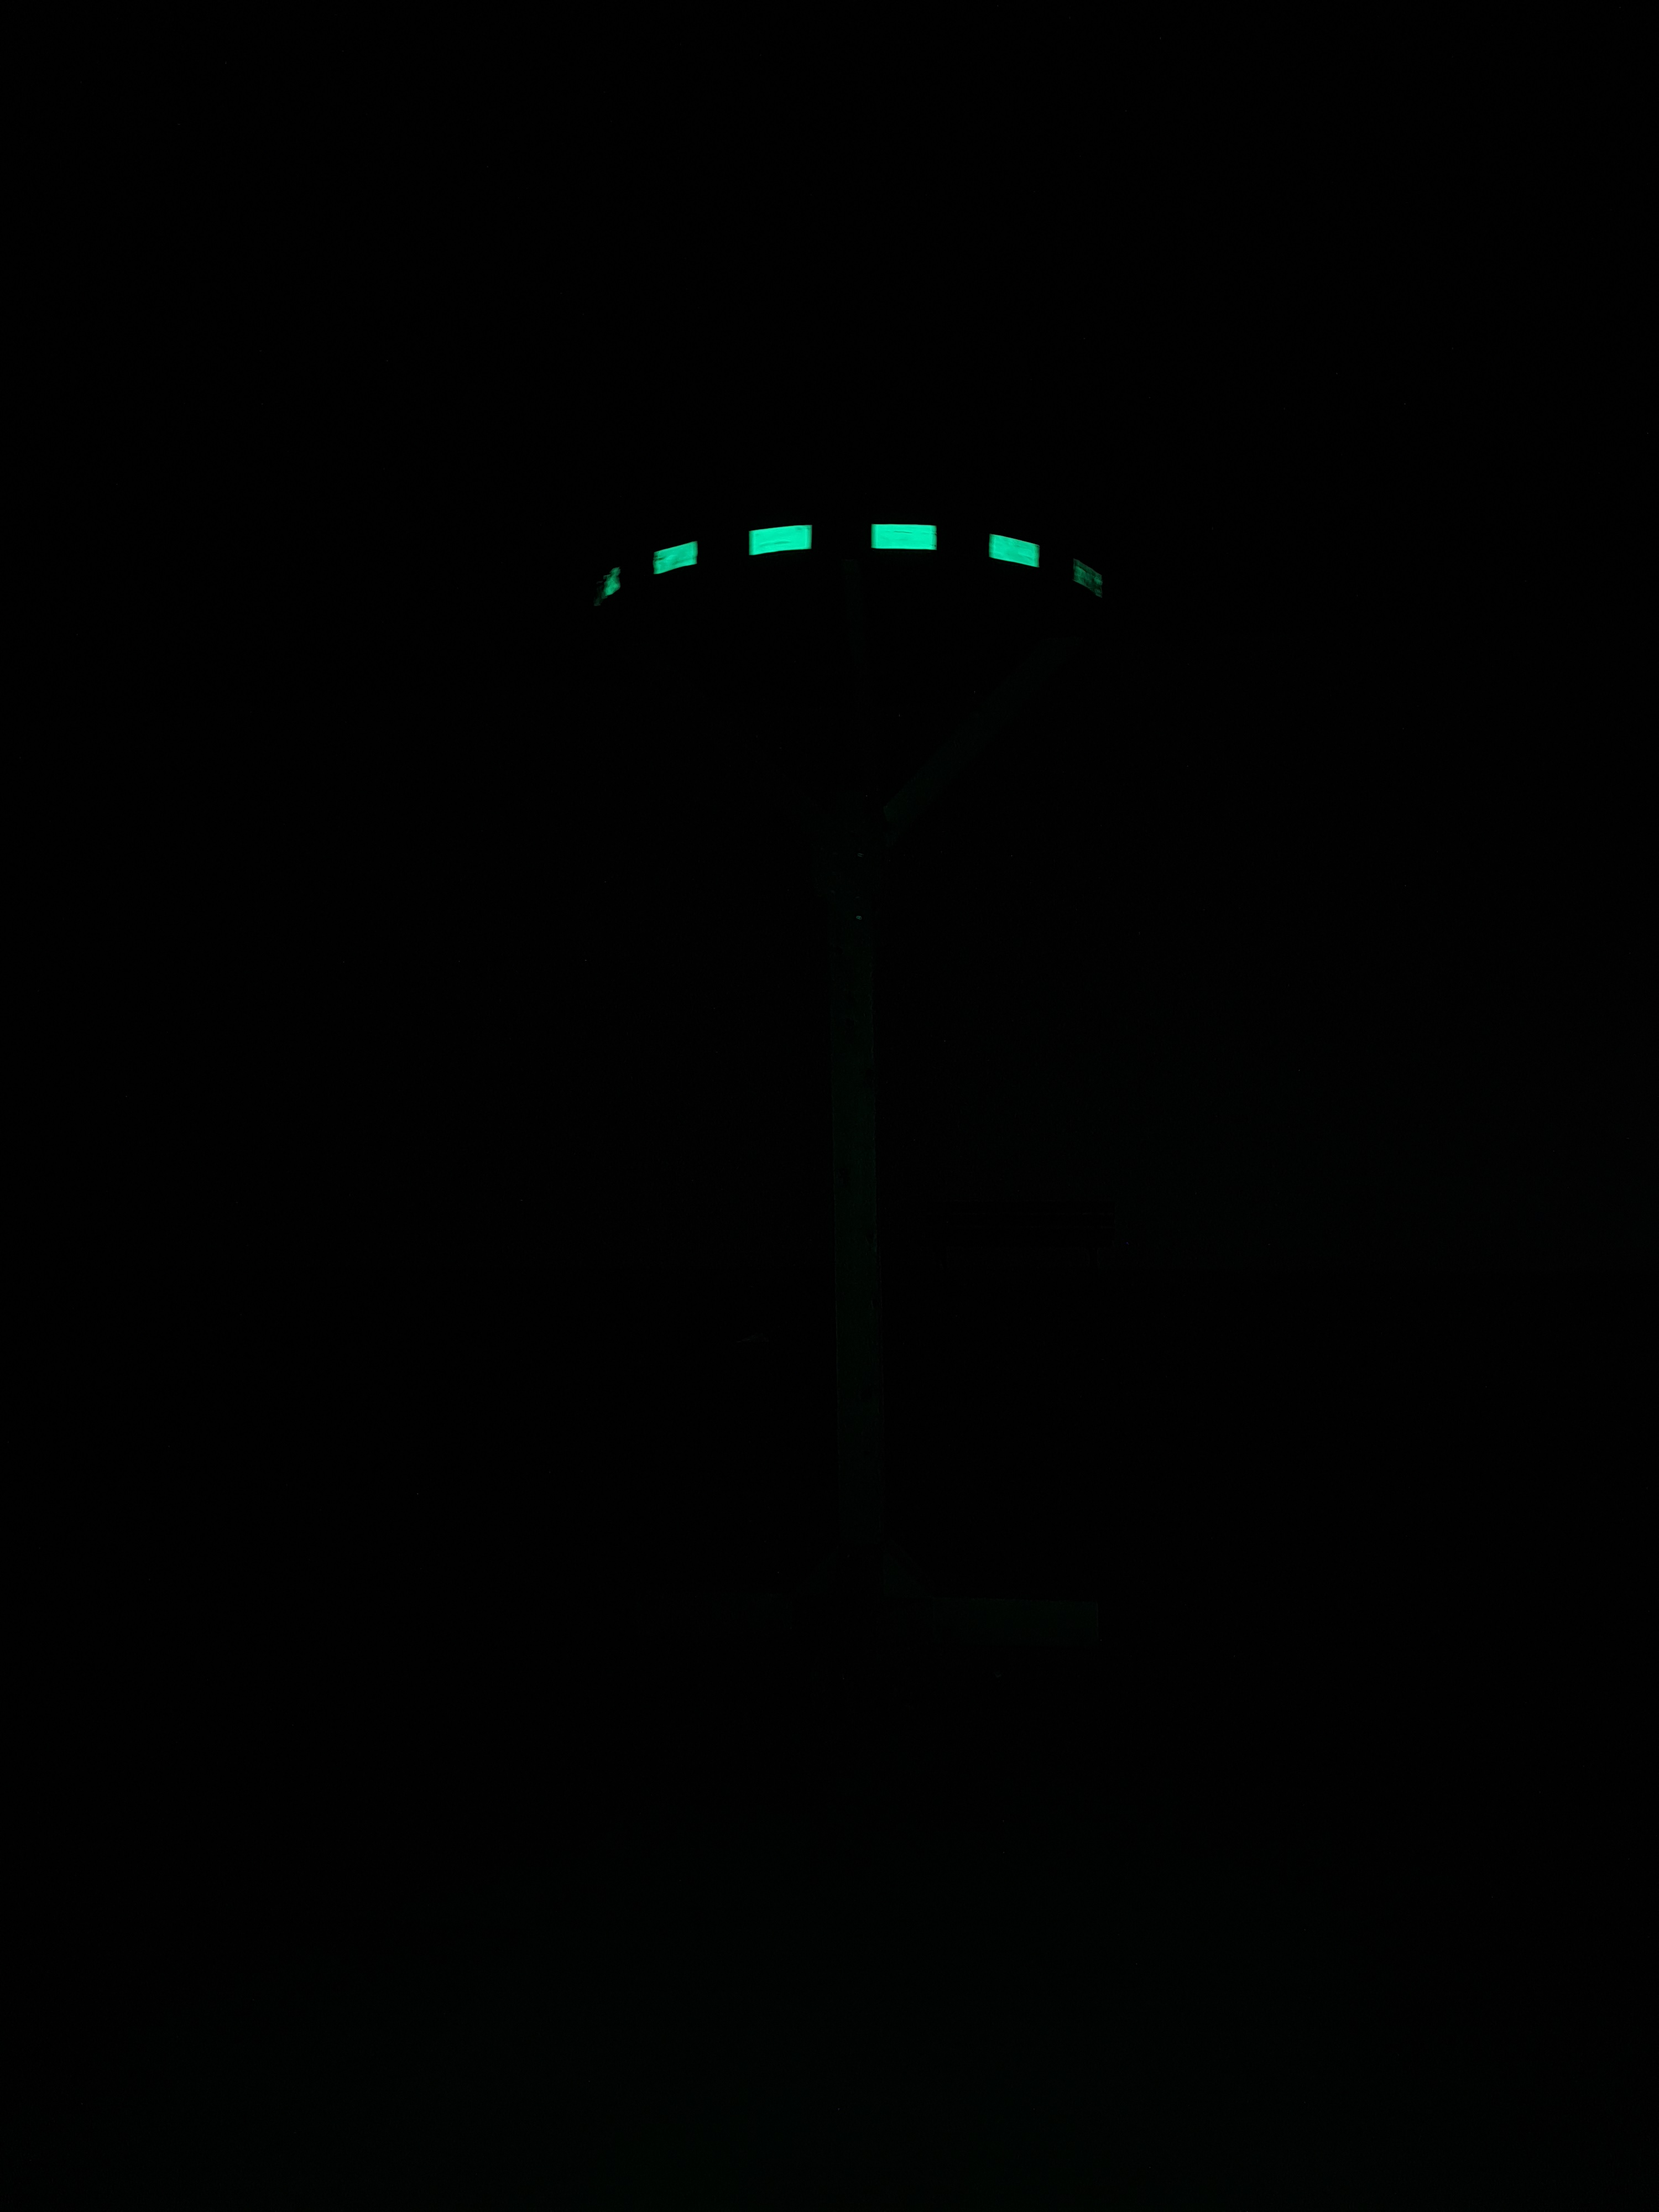hoop: (587, 517, 1108, 622)
